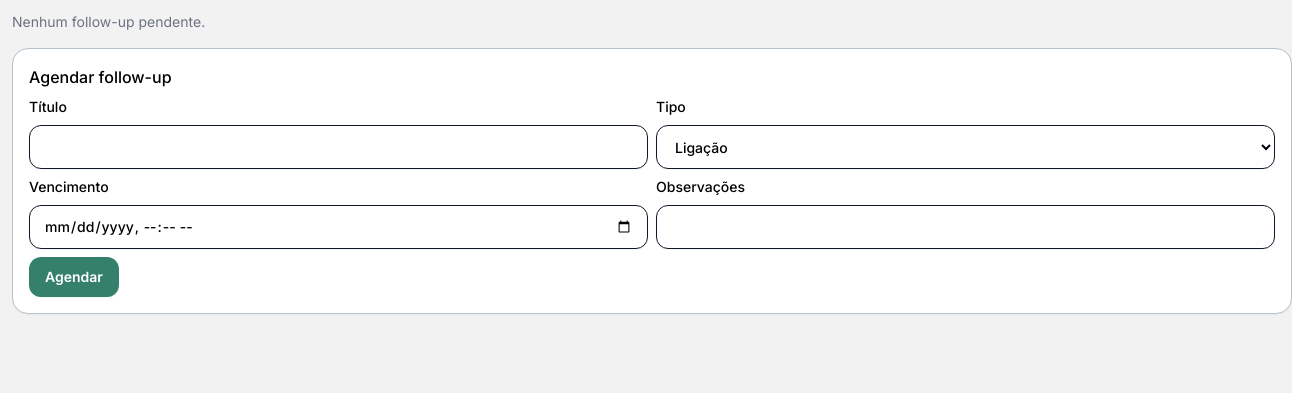
Test: cliente 360 follow-ups › agenda follow-up com título, tipo e vencimento
expect the text "Nenhum follow-up pendente." is shown: met, box x1=12 y1=13 x2=205 y2=30
Type "Enviar proposta" into the field labelled "Título" at (338, 147), box x1=29 y1=125 x2=648 y2=169
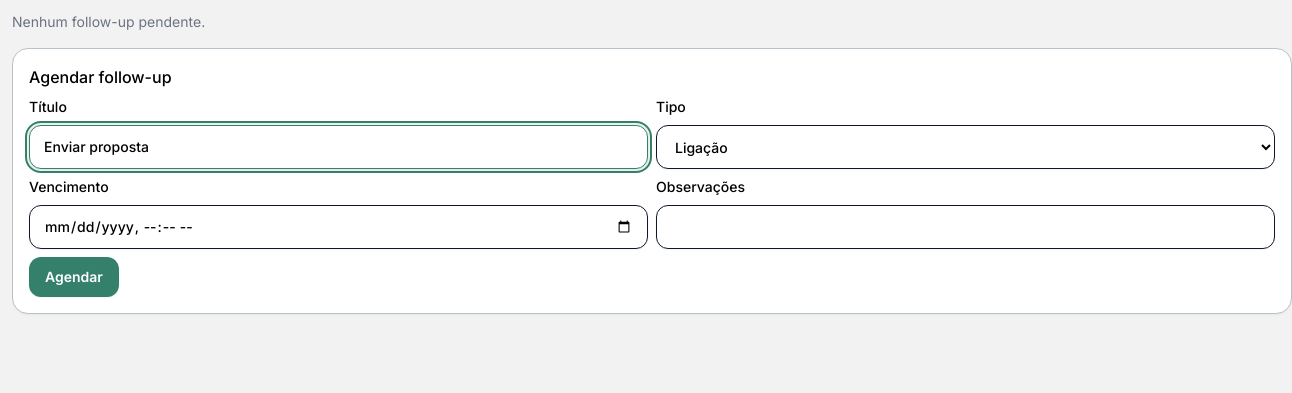
Type "2026-12-02T10:00" into the field labelled "Vencimento" at (338, 227), box x1=29 y1=205 x2=648 y2=249
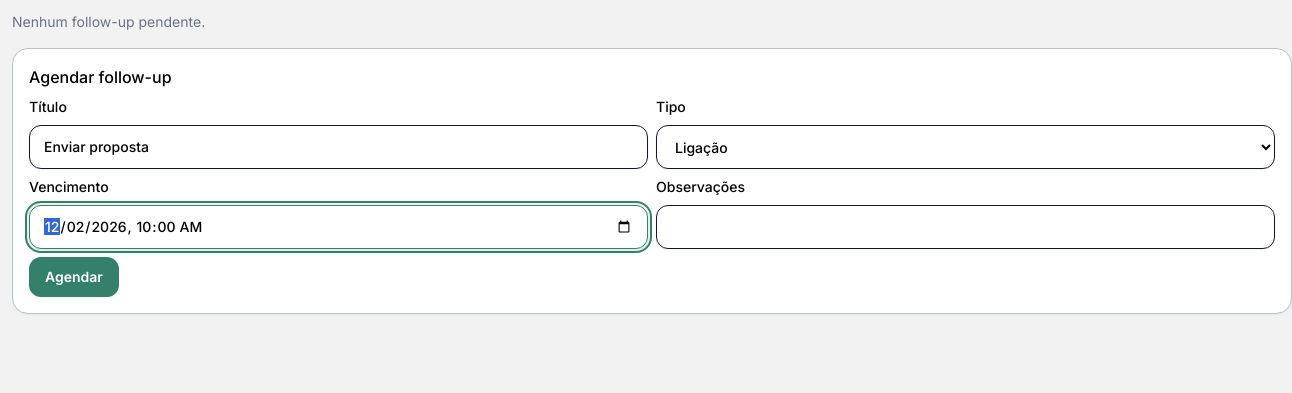
Click the button "Agendar" at (74, 277), box x1=29 y1=257 x2=119 y2=297
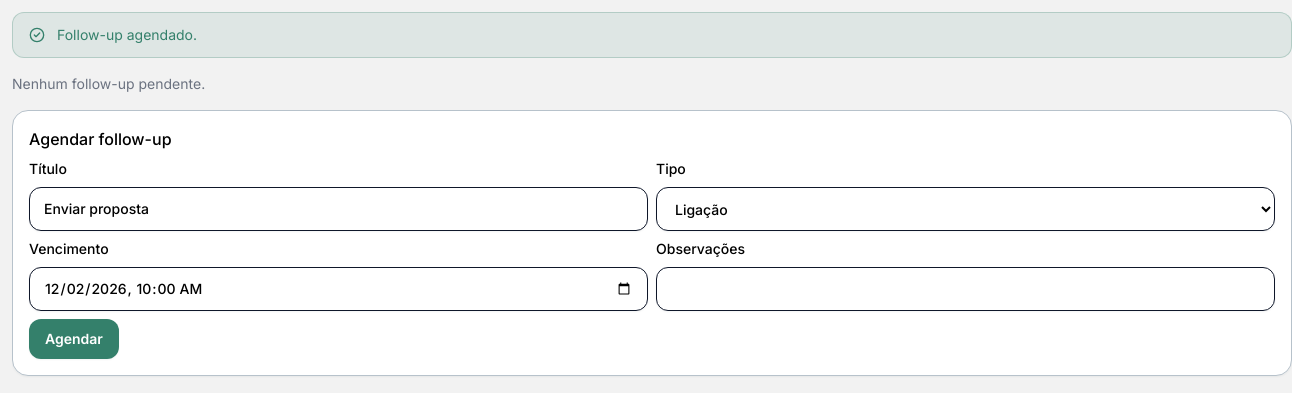
expect the text "Follow-up agendado." is shown: met, box x1=57 y1=25 x2=197 y2=45
